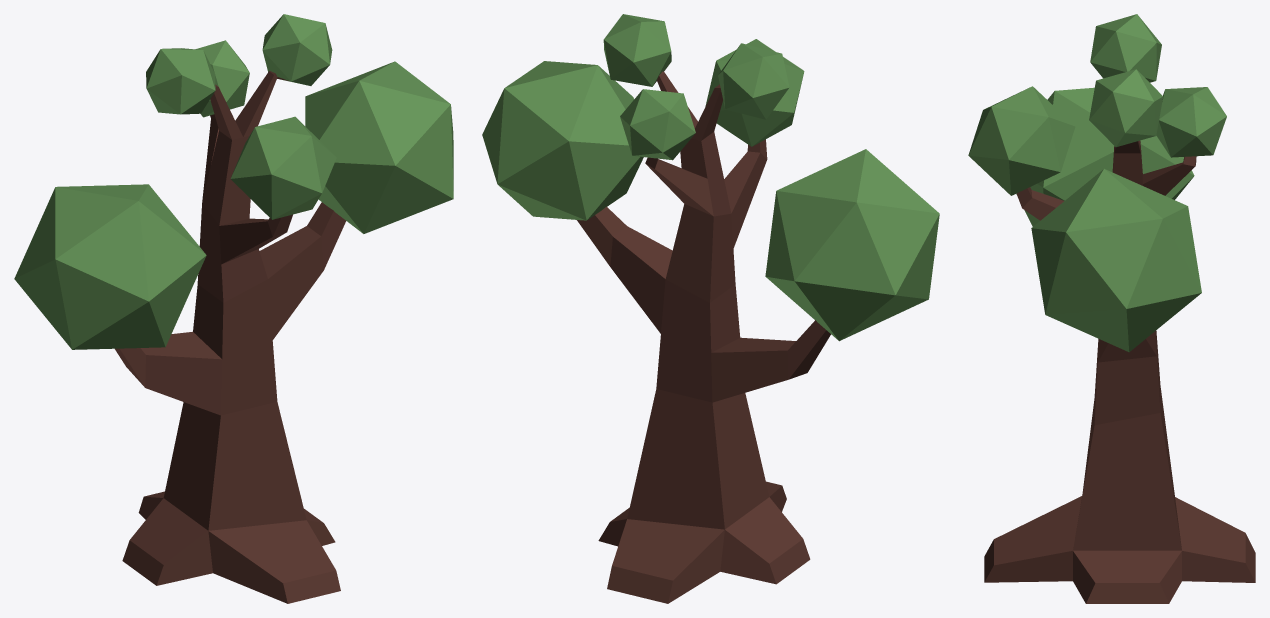
The model's file is forest_tree_1.fbx.
3 renders of one model, left to right at view 1: azimuth 30°, elevation 25°; view 2: azimuth 150°, elevation 25°; view 3: azimuth 270°, elevation 25°, orthographic.
Parts seen in each view (by area): view 1: ForestTree1; view 2: ForestTree1; view 3: ForestTree1.
Part boxes in pixels (x1,y1,x2,y2): ForestTree1: (14, 14, 453, 603); ForestTree1: (482, 14, 939, 603); ForestTree1: (968, 14, 1255, 603).
Bounding box in the file's own units: 1140 × 1322 × 655.
